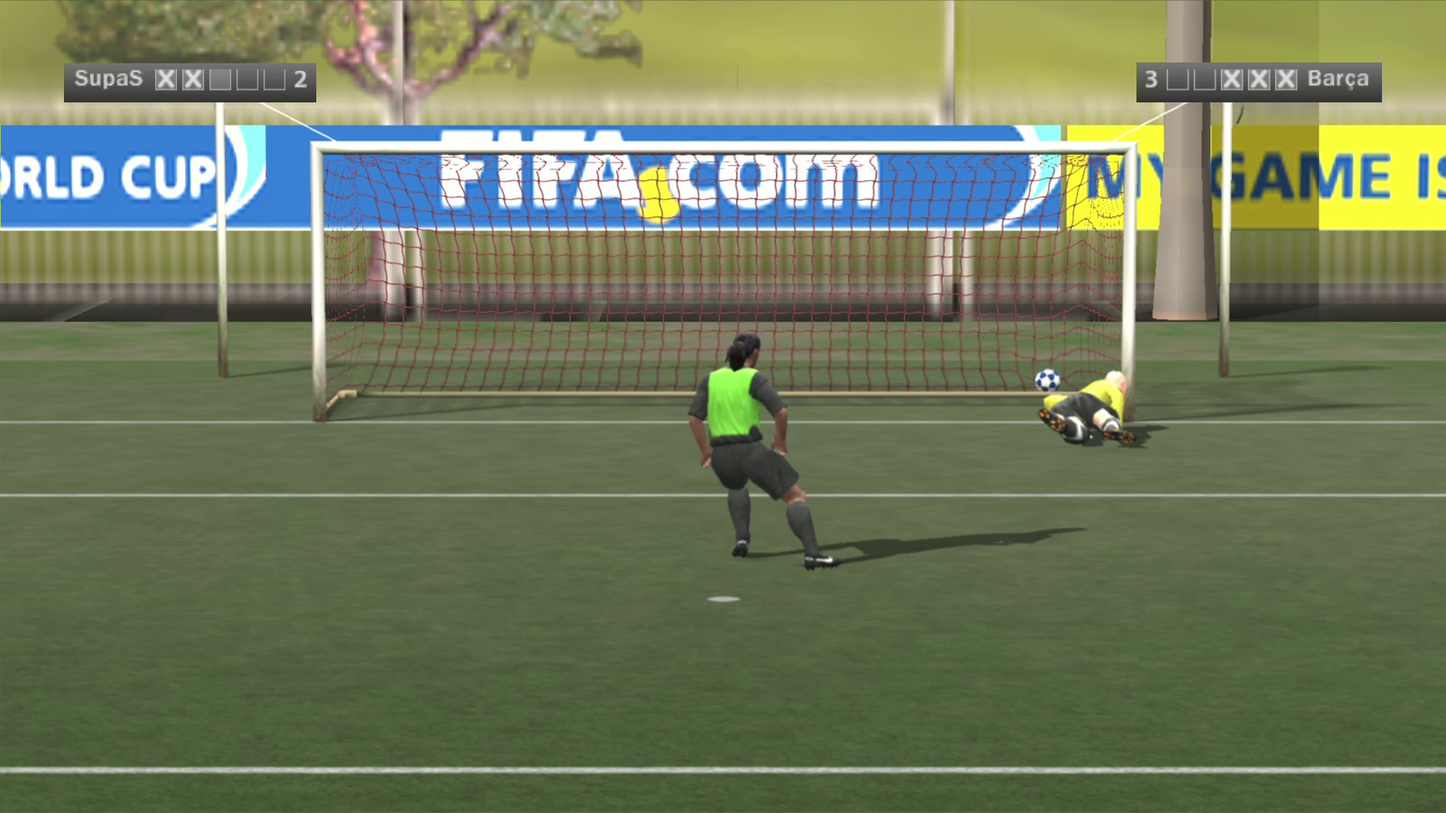ball: (1021, 355, 1047, 380)
goal_post: (0, 21, 722, 279)
keeper: (1024, 328, 1100, 408)
kicker: (624, 212, 767, 448)
